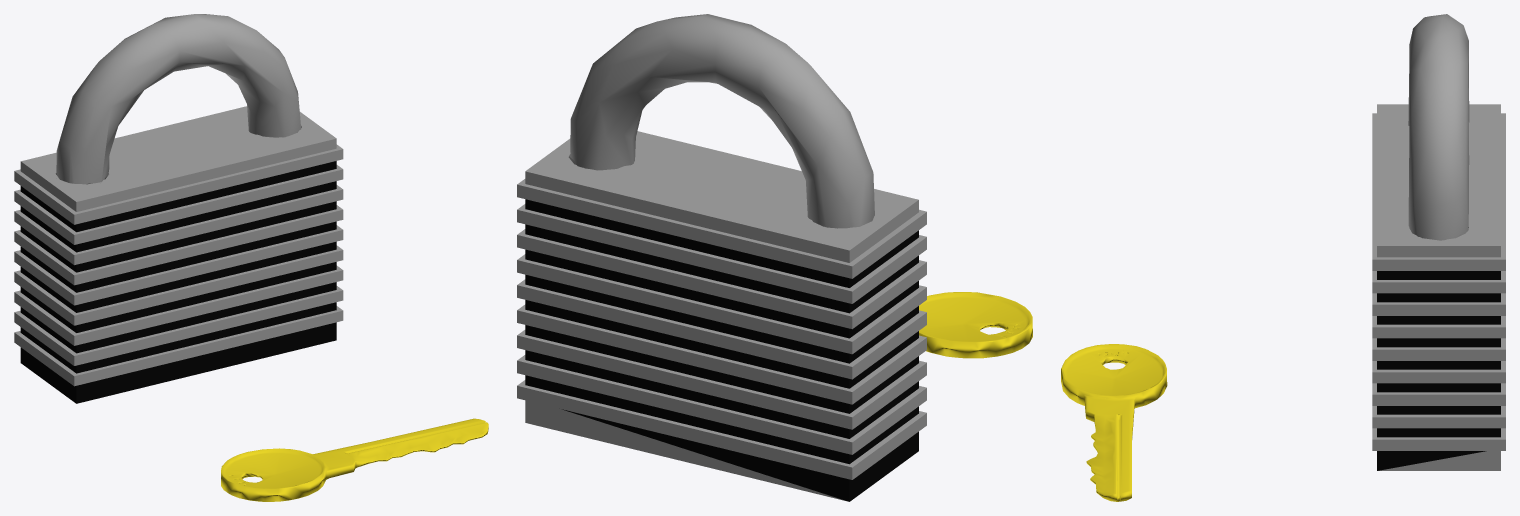
The model's file is Candado y Llave.fbx.
3 views of the same model, side by side, from view 1: azimuth 30°, elevation 25°; view 2: azimuth 150°, elevation 25°; view 3: azimuth 270°, elevation 25° (orthographic). The views are drawn at different scales.
Parts seen in each view (by area): view 1: Lock, Key; view 2: Lock, Key; view 3: Lock, Key.
Part boxes in pixels (box(x1,y1,x2,y2)): Lock: box(14, 14, 343, 403); Key: box(221, 418, 488, 501); Lock: box(517, 14, 926, 501); Key: box(919, 292, 1032, 358); Lock: box(1372, 14, 1505, 470); Key: box(1061, 344, 1167, 501).
Size of the model in its own units: 3.16 by 3.49 by 3.65.
